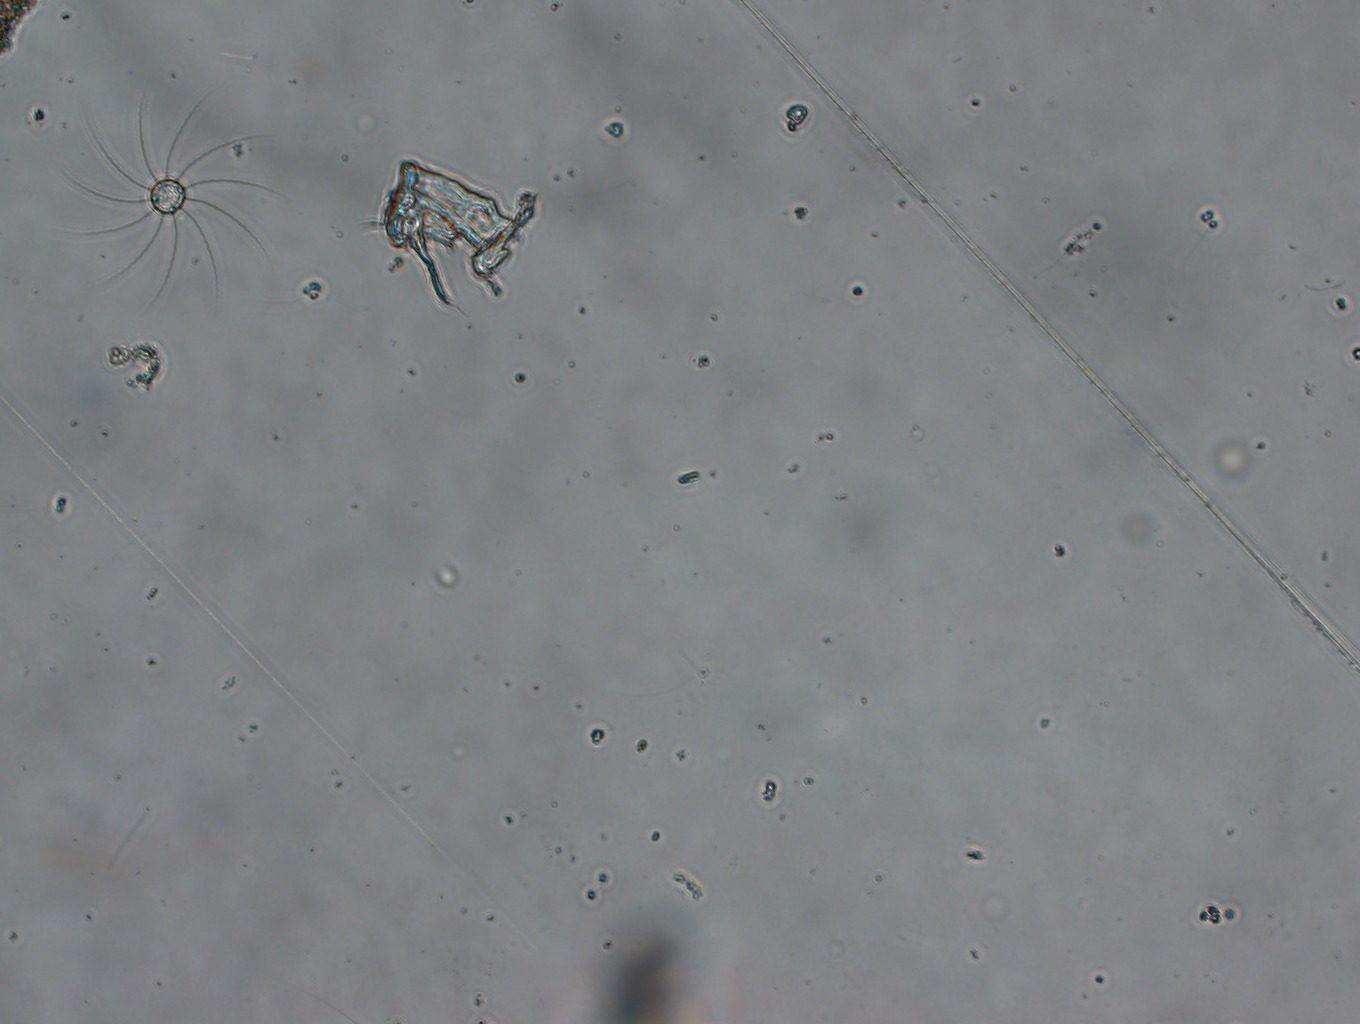bacteriastrum: (59, 87, 281, 312)
